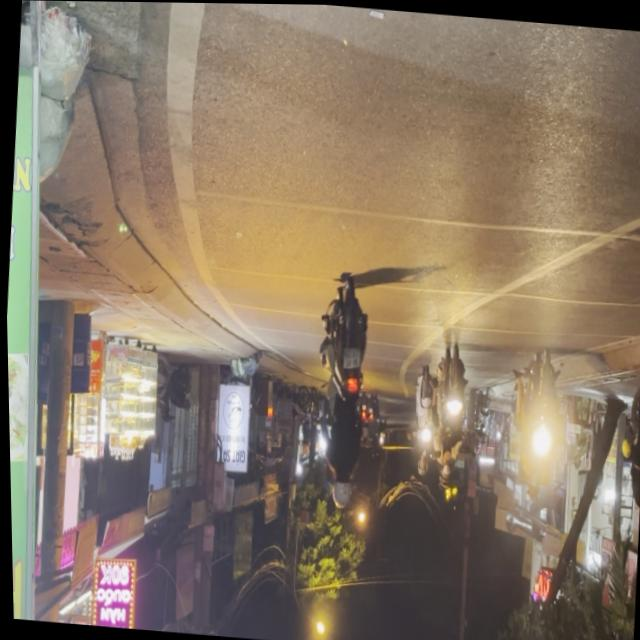helmet: (328, 475, 351, 508)
licenseplate: (304, 276, 378, 512)
nohelmet: (340, 345, 359, 367)
